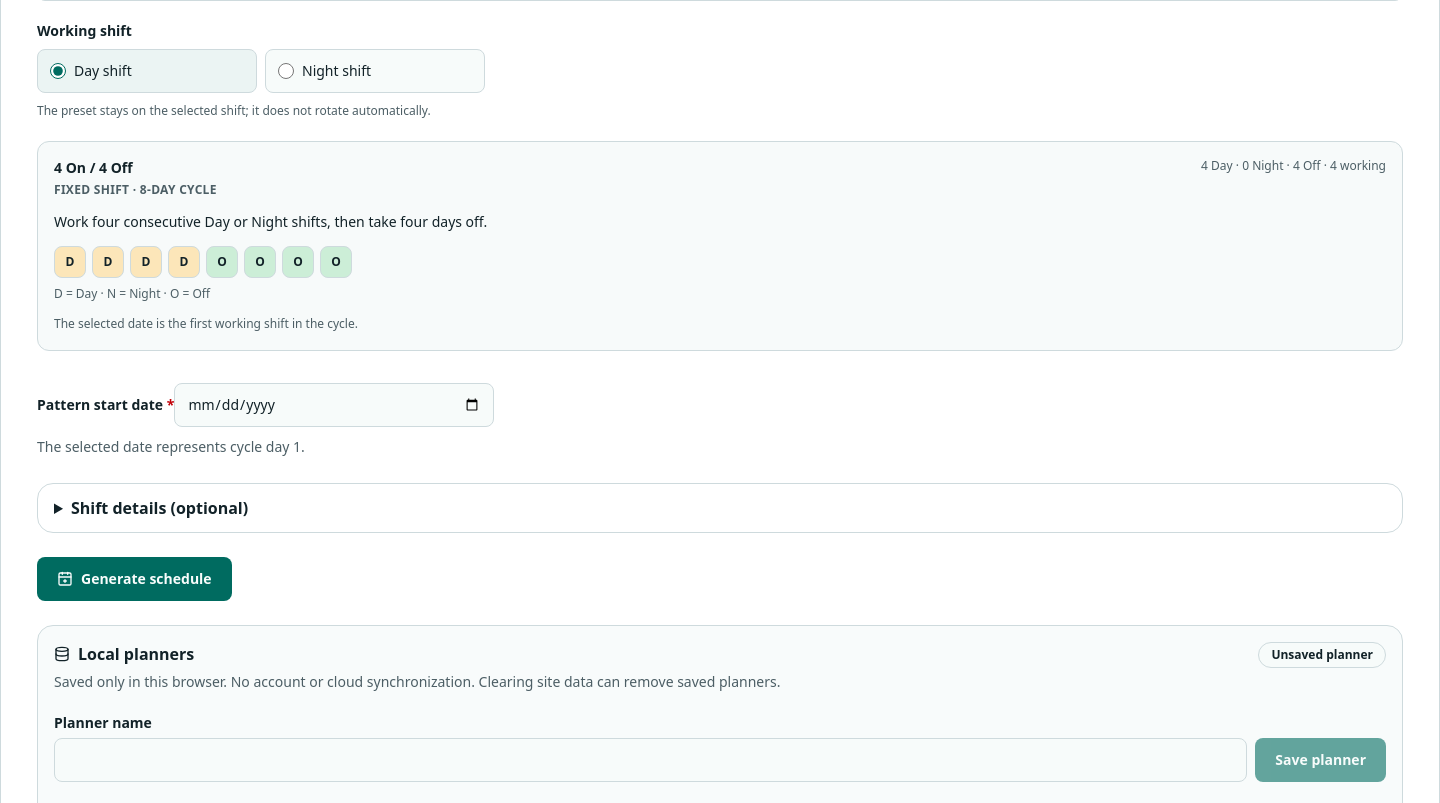
Test case: yearly generation › navigates years transiently and returns to the preserved month
The width and height of the screenshot is (1440, 803).
(page scrolled)
In the date field labelled "Pattern start date *": (334,405) [174,383,494,427], type "2026-10-01"
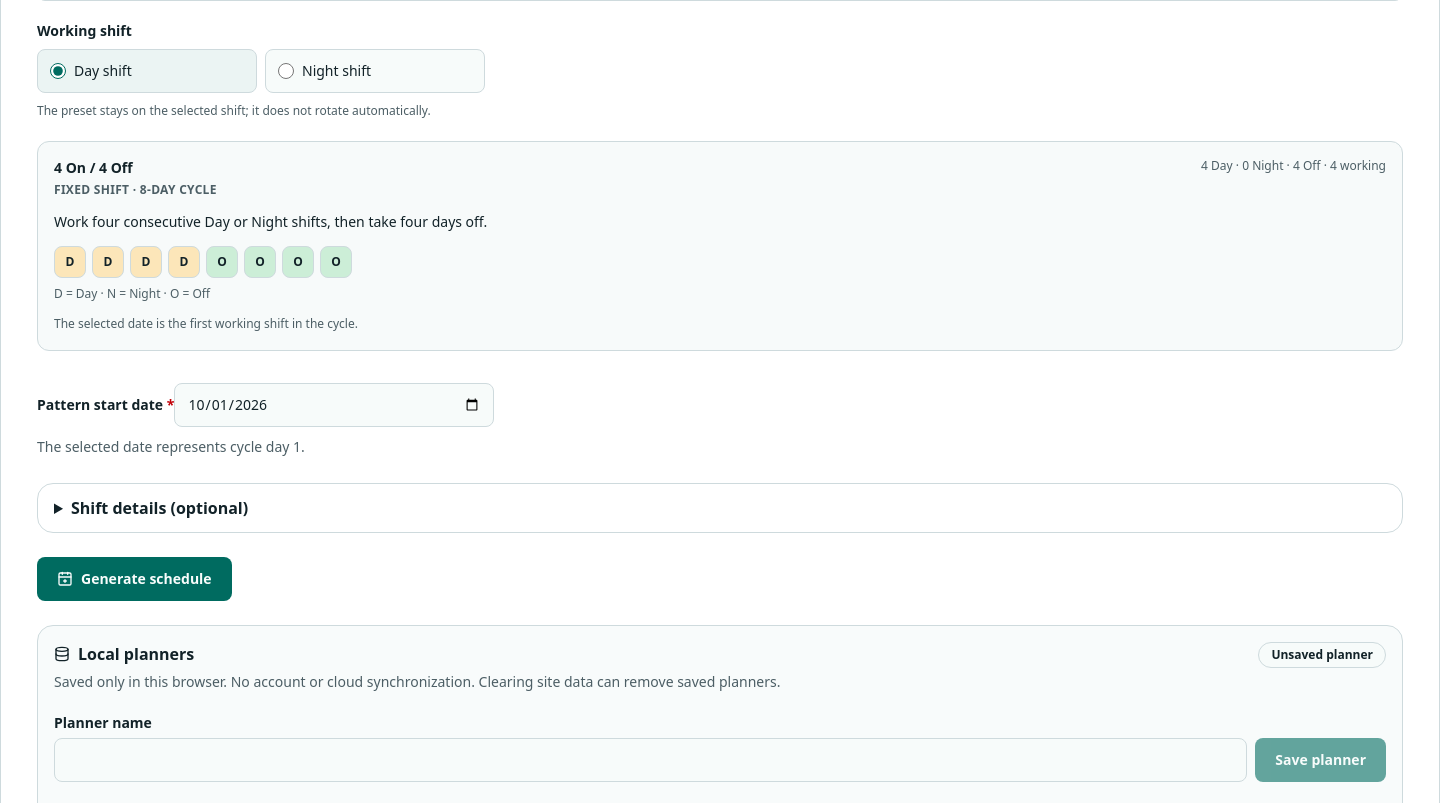
Click the button "Generate schedule": (134,579) [37,557,232,601]
(page scrolled)
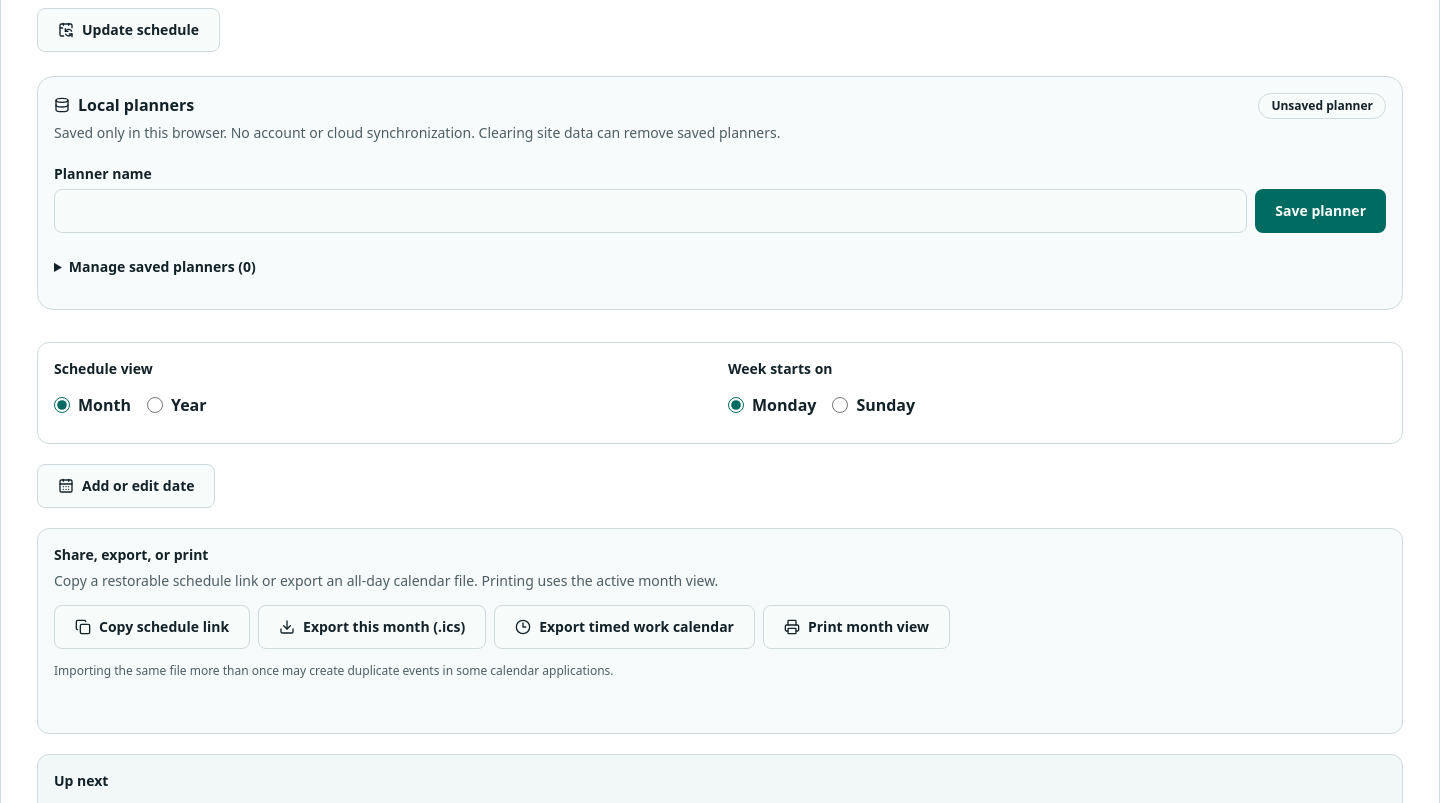
Click the radio button labelled "Year": (155,405) [147,397,163,413]
(page scrolled)
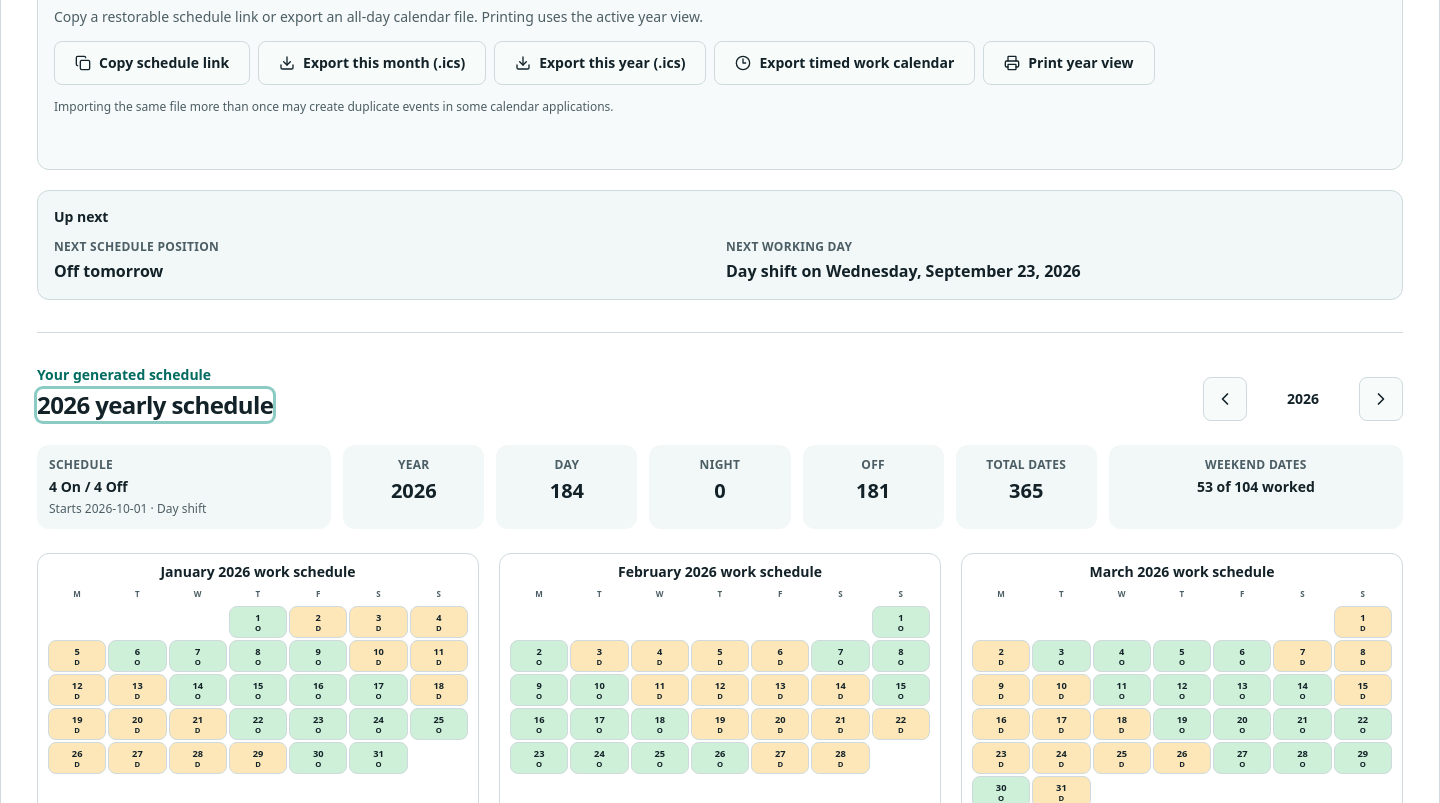
Result: the heading "2026 yearly schedule" is shown at [37,389,273,421]
Click the button named "Show 2027": (1381,399) [1359,377,1403,421]
(page scrolled)
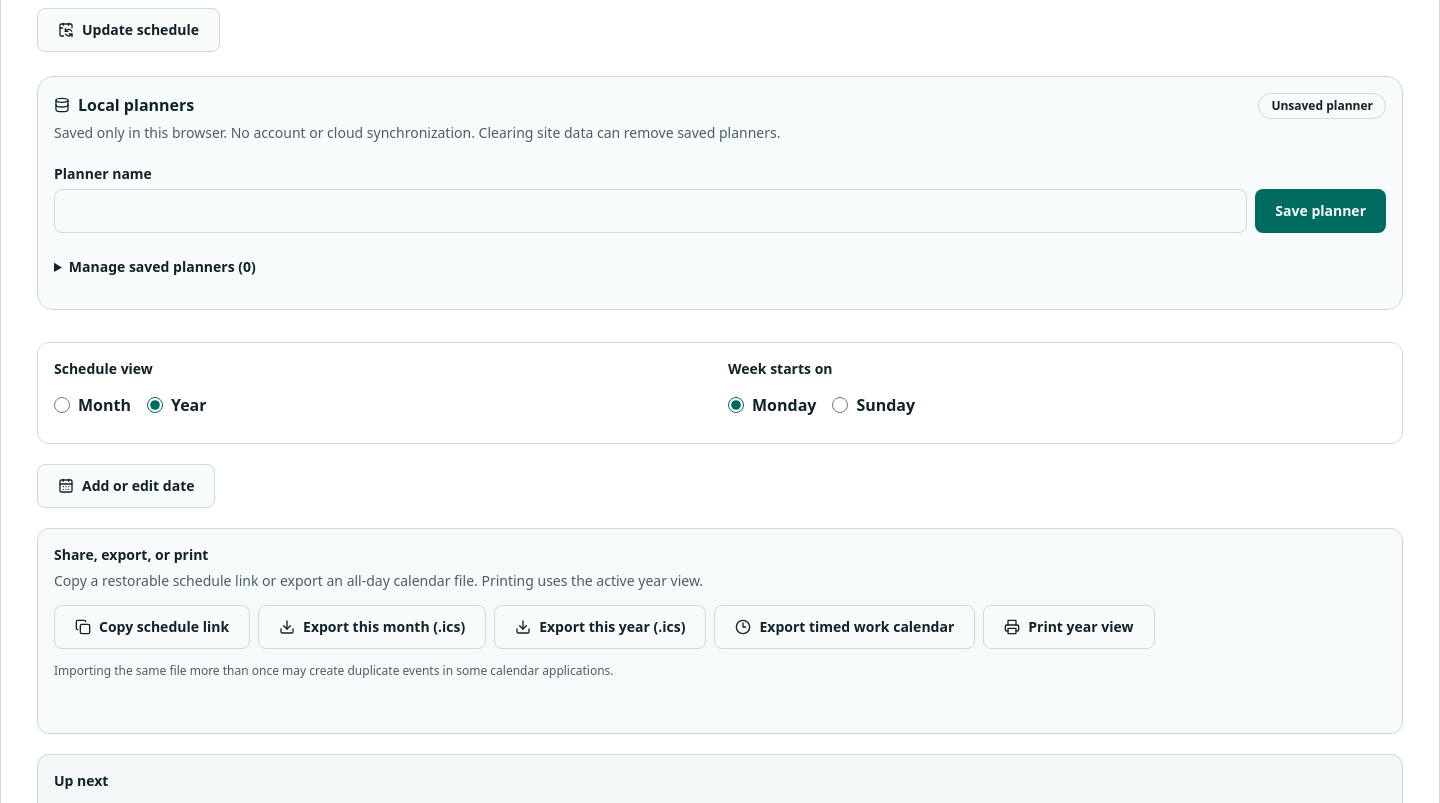
Click the radio button labelled "Month": (62,405) [54,397,70,413]
(page scrolled)
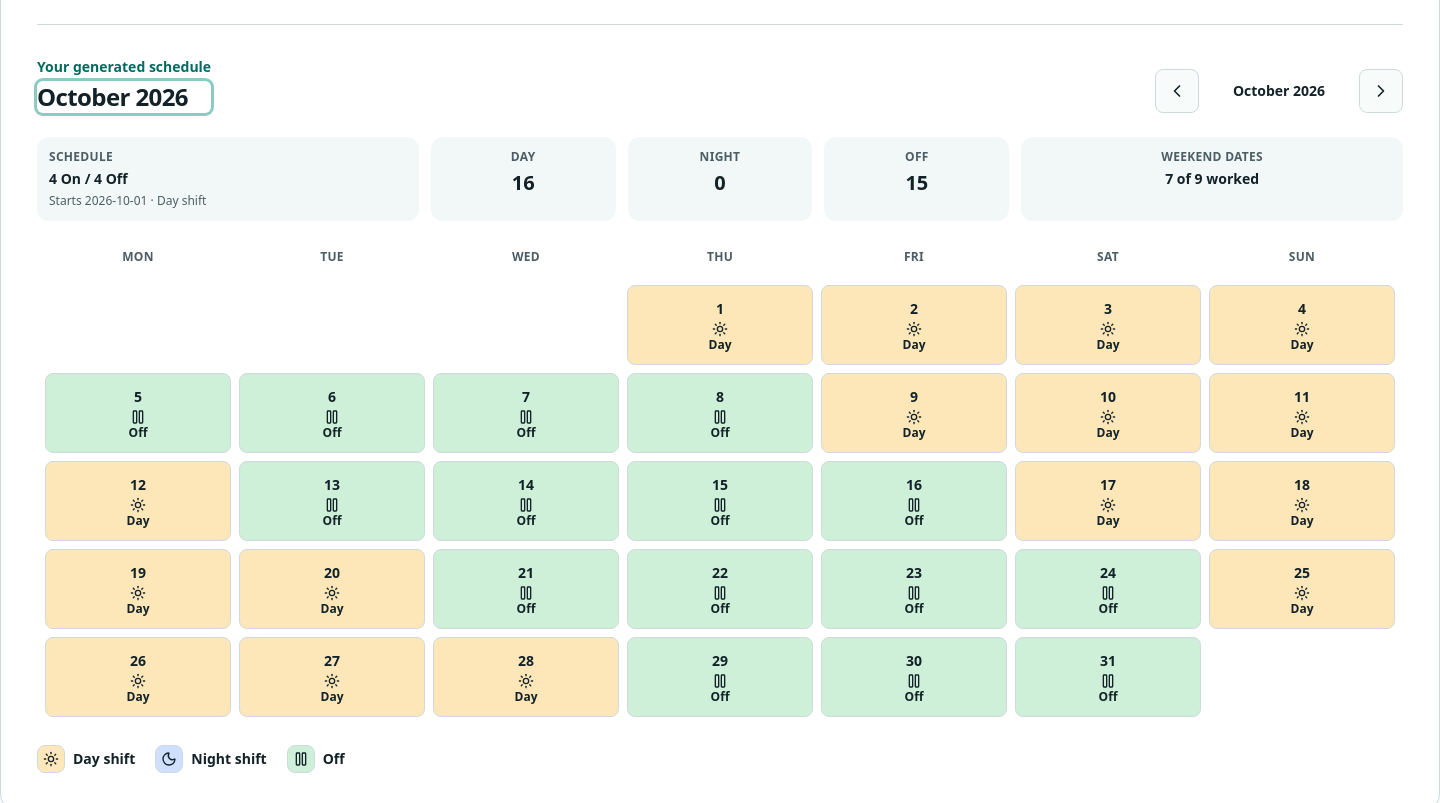
Result: the table named "october 2026" is shown at [37,241,1403,725]
